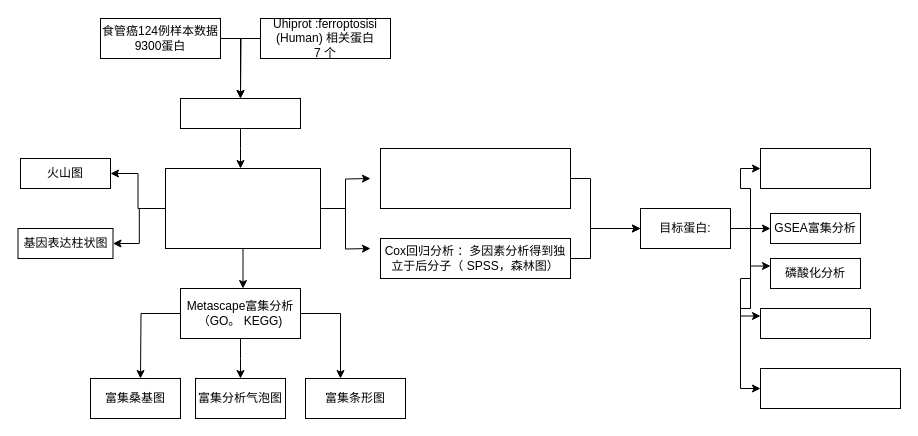
Some shapes in this 918 by 436 pixel diagram are drawn without their labels. The shapes that lost their labels are listed below. From the top down, each one's centre as x and y in pixels, then its label:
pixel 240 113: Overlap（韦恩图）
pixel 475 178: 生存分析(总生存成无瘤生存p<0.05， Kaplan-Meier曲线)； 上调蛋白中的危险分子和下调蛋白 中的保护因子
pixel 815 168: 数据库、文献查询蛋白功能、 亚细胞定位、文献研究情况
pixel 242 208: 差异分析 （logFC≥1.5）： 123蛋白，其中 5655个蛋白上调，3645个蛋白下调
pixel 815 323: 食管癌细胞系中的表达情况
pixel 830 388: 食管癌细胞中功能实验，报告 基因通路分析
